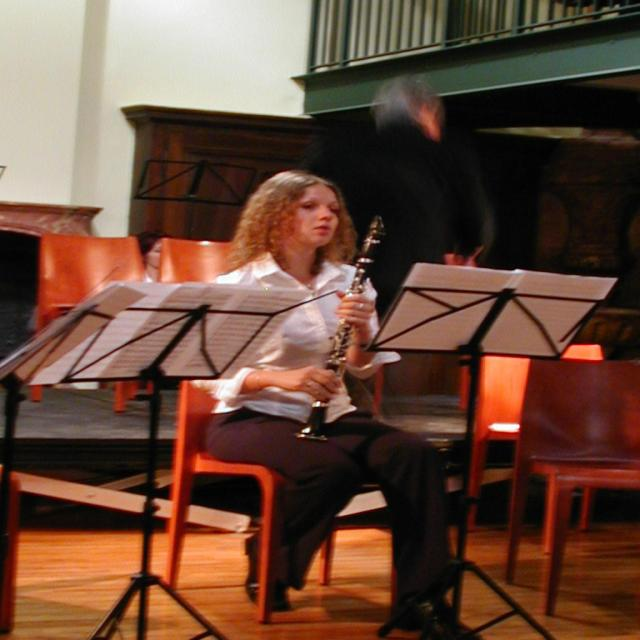clarinet: (295, 214, 392, 446)
